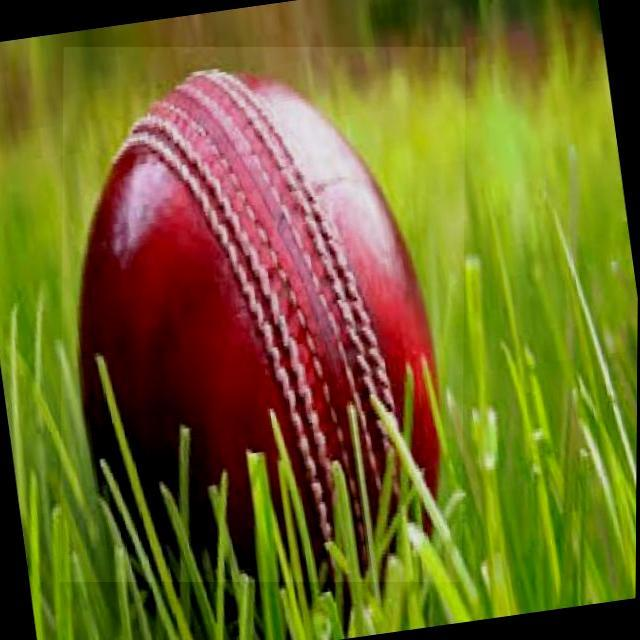-: (61, 47, 466, 582)
